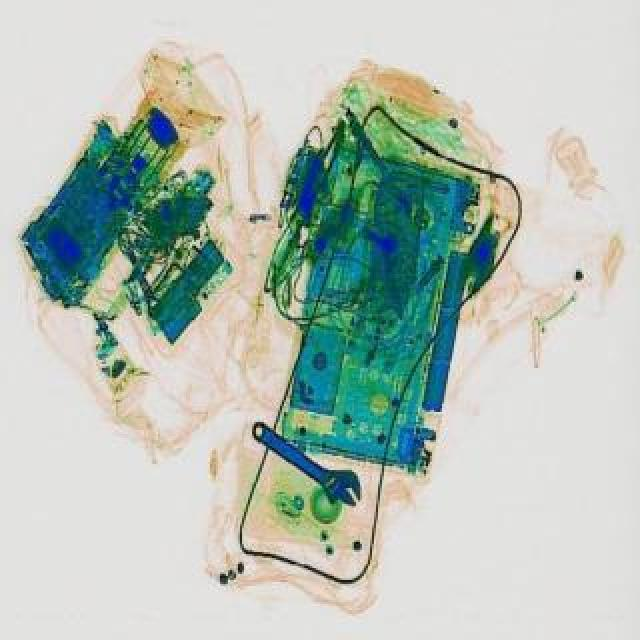scissors: (240, 412, 376, 520)
